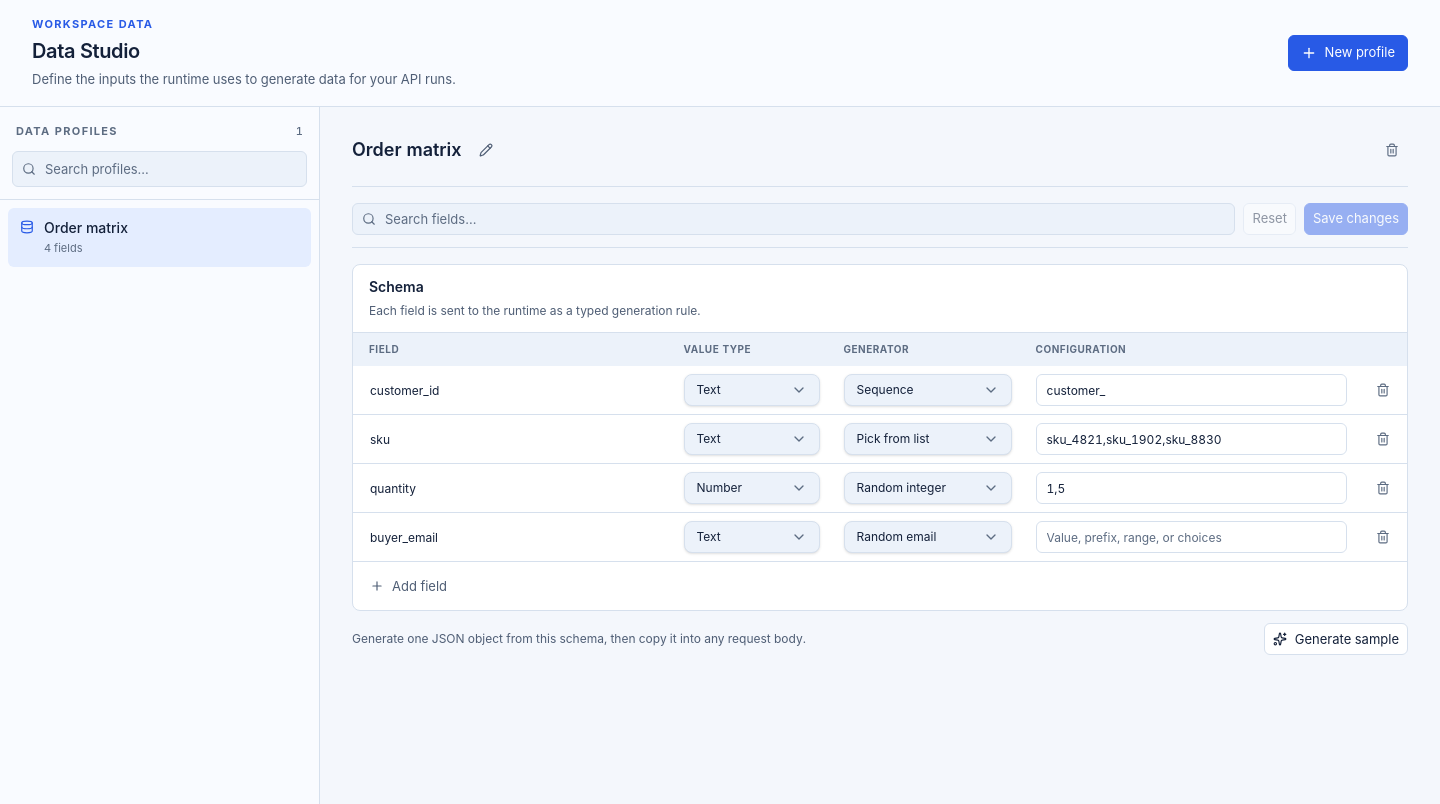
Test: Data Profile controls › generates a copyable sample without navigating away
Step 1. Click the button "Generate sample" → (1336, 640), box [1264,624,1408,656]
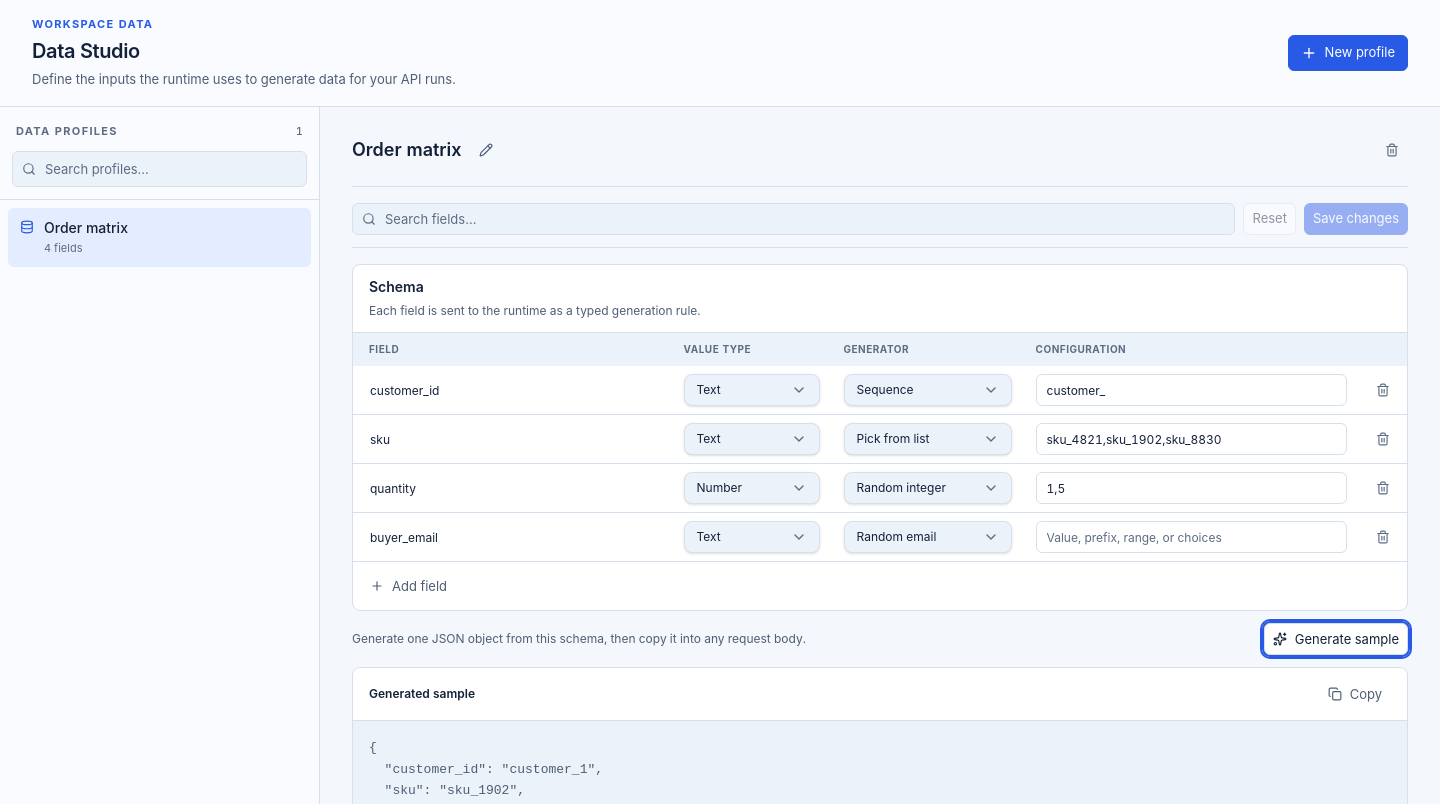
expect the heading "Generated sample" is shown: met, box [369,686,475,702]
